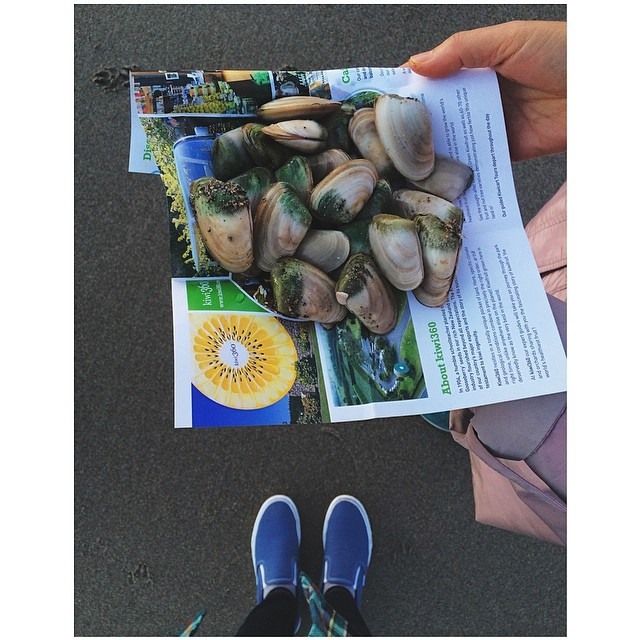tuatua: (188, 170, 253, 271), (336, 247, 397, 338), (375, 92, 437, 181), (411, 208, 462, 312), (255, 179, 311, 271), (270, 256, 345, 324), (369, 211, 425, 294), (311, 158, 377, 225), (349, 104, 399, 179), (393, 188, 468, 230), (431, 152, 477, 205), (262, 119, 331, 153), (211, 129, 255, 175), (242, 124, 285, 167), (255, 95, 343, 116), (309, 229, 354, 270), (282, 157, 317, 203)
